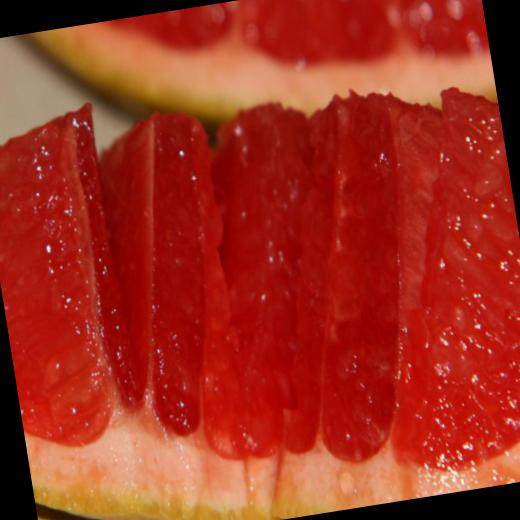Cherry: (0, 38, 520, 520), (20, 0, 498, 174)
